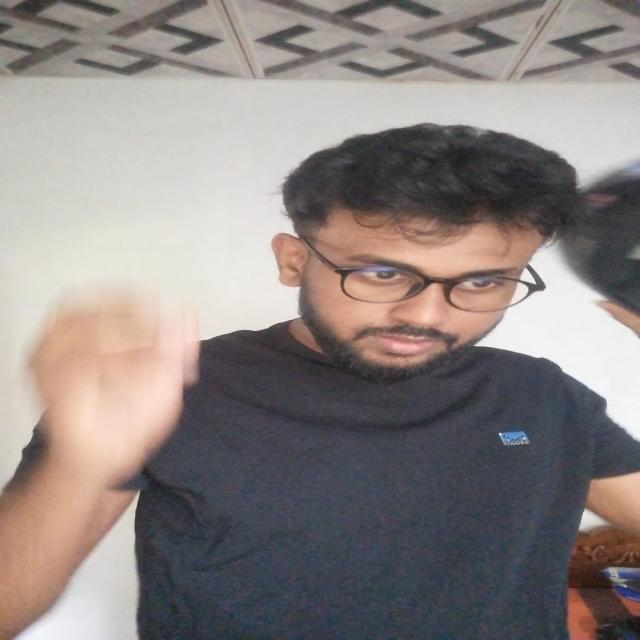Person: (7, 101, 639, 640)
